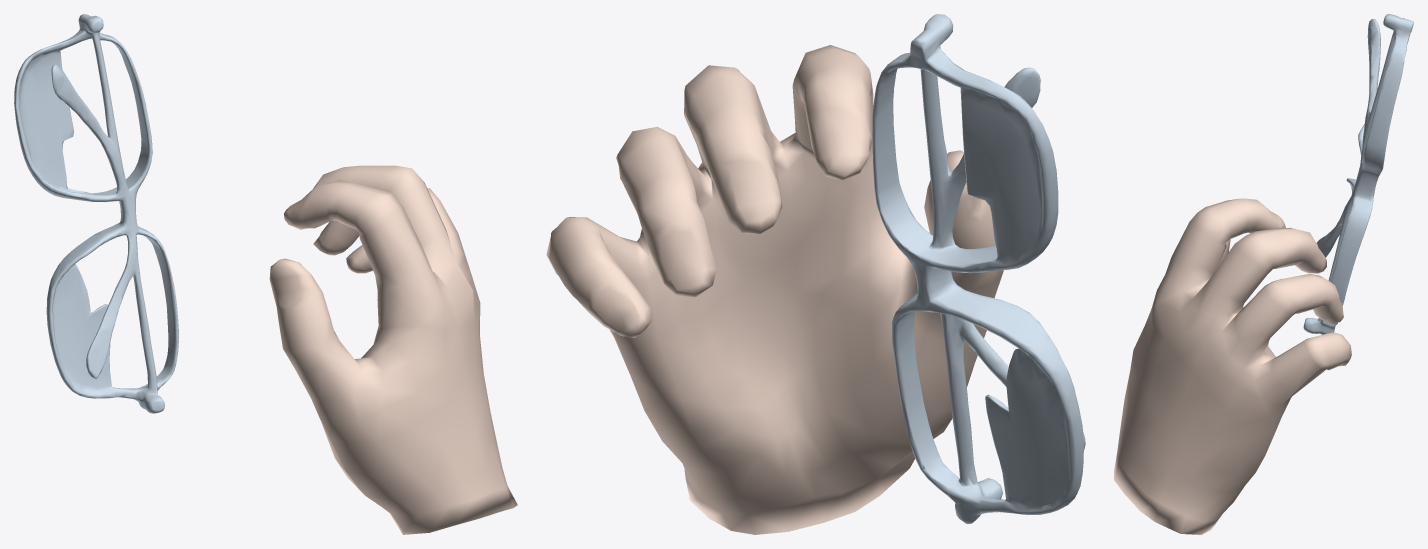
Rendered from sequence.glb.
The picture shows the model from 3 angles, left to right: view 1: azimuth 30°, elevation 25°; view 2: azimuth 150°, elevation 25°; view 3: azimuth 270°, elevation 25°; orthographic projection. The views are drawn at different scales.
Visible parts, largest first — view 1: 4902; view 2: 4902; view 3: 4902.
Boxes of the visible parts, x1=… form: 4902: x1=14, y1=14, x2=517, y2=534; 4902: x1=546, y1=14, x2=1085, y2=534; 4902: x1=1114, y1=14, x2=1413, y2=534.
Bounding box in the file's own units: 0.1768 × 0.2108 × 0.14.
